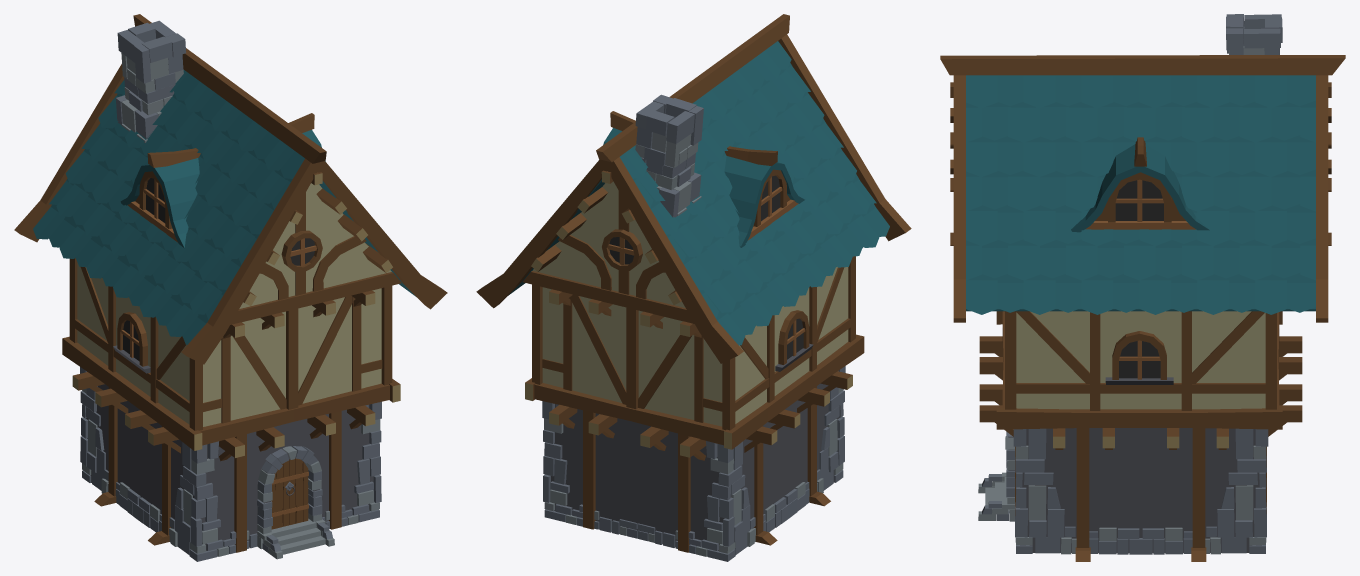
Rendered from House_1.glb.
3 views of the same model, side by side, from view 1: azimuth 30°, elevation 25°; view 2: azimuth 150°, elevation 25°; view 3: azimuth 270°, elevation 25° (orthographic). The views are drawn at different scales.
Visible parts, largest first — view 1: House_1; view 2: House_1; view 3: House_1.
Part boxes in pixels (x1=…): House_1: x1=14, y1=14, x2=447, y2=561; House_1: x1=476, y1=14, x2=911, y2=561; House_1: x1=940, y1=14, x2=1345, y2=561.
Size of the model in its own units: 2.14 by 3.39 by 2.66.
Materials: 1 (1 with a texture image).
